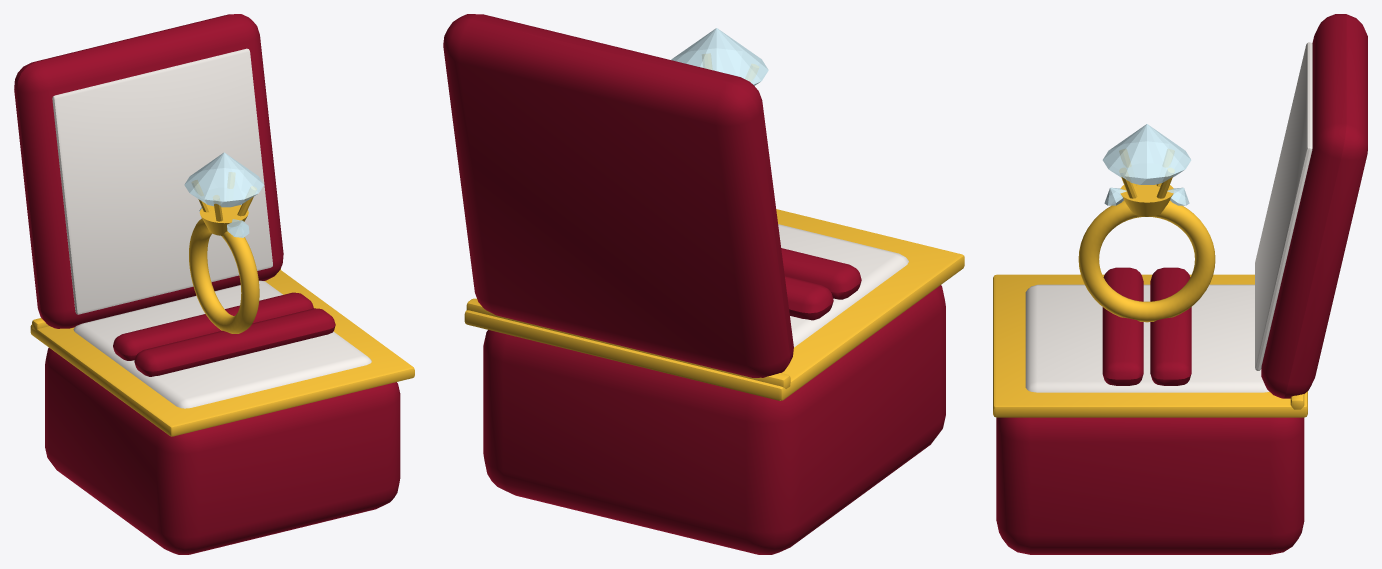
Rendered from DiamondRing.fbx.
The picture shows the model from 3 angles, left to right: view 1: azimuth 30°, elevation 25°; view 2: azimuth 150°, elevation 25°; view 3: azimuth 270°, elevation 25°; orthographic projection. The views are drawn at different scales.
Visible parts, largest first — view 1: Velvet, Satin, Gold, Diamond; view 2: Velvet, Gold, Satin, Diamond; view 3: Velvet, Satin, Gold, Diamond.
Part boxes in pixels (box(x1,y1,x2,y2)): Velvet: box(14, 14, 400, 554); Satin: box(52, 48, 371, 408); Gold: box(30, 172, 414, 436); Diamond: box(184, 152, 263, 237); Velvet: box(443, 14, 945, 554); Gold: box(464, 60, 964, 400); Satin: box(778, 224, 908, 347); Diamond: box(671, 28, 768, 85); Velvet: box(996, 14, 1367, 554); Satin: box(1025, 42, 1312, 392); Gold: box(993, 151, 1307, 417); Diamond: box(1102, 124, 1191, 205).
Size of the model in its own units: 92 by 139 by 110.
